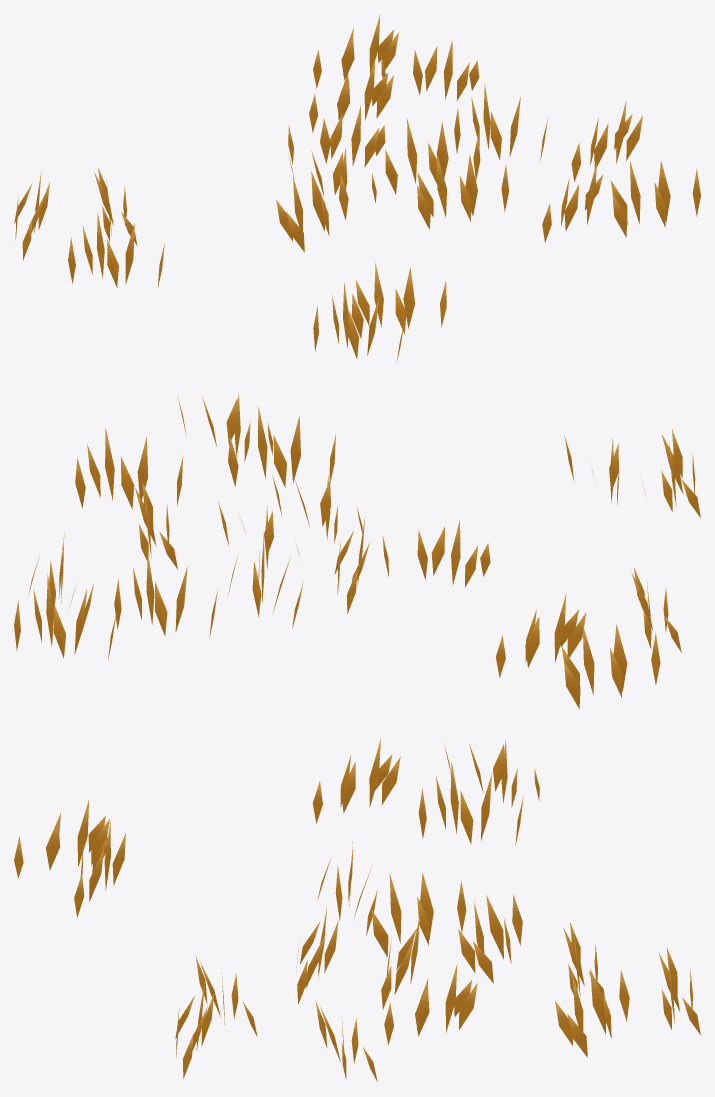
The model's file is plants_un_main_grass_set81_01.gltf.
3 renders of one model, top to bottom at view 1: azimuth 30°, elevation 25°; view 2: azimuth 150°, elevation 25°; view 3: azimuth 270°, elevation 25°, orthographic. The views are drawn at different scales.
Parts seen in each view (by area): view 1: plants_un_main_grass_set81_01_mesh_shape:plants_un_main_gras; view 2: plants_un_main_grass_set81_01_mesh_shape:plants_un_main_gras; view 3: plants_un_main_grass_set81_01_mesh_shape:plants_un_main_gras.
Boxes of the visible parts, left/top/right/bottom form: plants_un_main_grass_set81_01_mesh_shape:plants_un_main_gras: left=14, top=14, right=700, bottom=362; plants_un_main_grass_set81_01_mesh_shape:plants_un_main_gras: left=14, top=393, right=700, bottom=708; plants_un_main_grass_set81_01_mesh_shape:plants_un_main_gras: left=14, top=739, right=700, bottom=1081.
Size of what is drawn, in the model's own units: 3.78 by 0.4184 by 3.6.
Materials: 1 (1 with a texture image).
